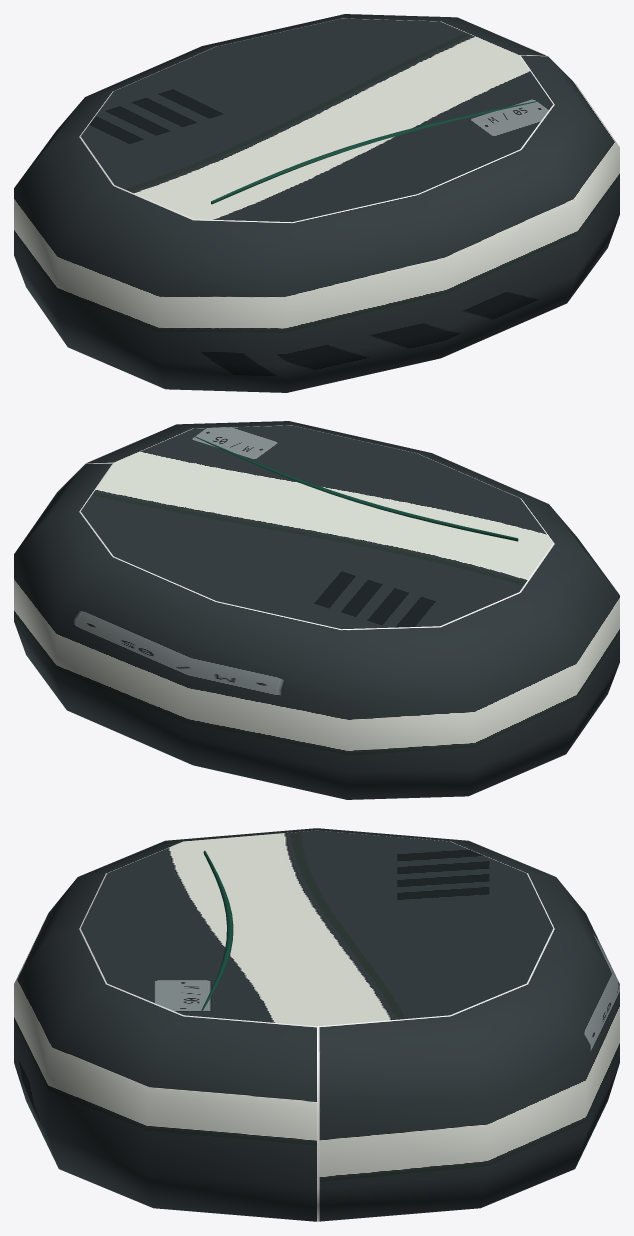
File: MotorCowl_05_N_深緑・白縁.glb
3 renders of one model, top to bottom at view 1: azimuth 30°, elevation 25°; view 2: azimuth 150°, elevation 25°; view 3: azimuth 270°, elevation 25°, orthographic. The views are drawn at different scales.
Parts seen in each view (by area): view 1: MotorCowl_05_N; view 2: MotorCowl_05_N; view 3: MotorCowl_05_N.
Part boxes in pixels (x1,y1,x2,y2): MotorCowl_05_N: (14,14,619,392); MotorCowl_05_N: (14,421,619,799); MotorCowl_05_N: (14,828,619,1221).
Size of the model in its own units: 0.332 by 0.1188 by 0.286.
1 material, 1 textured.
